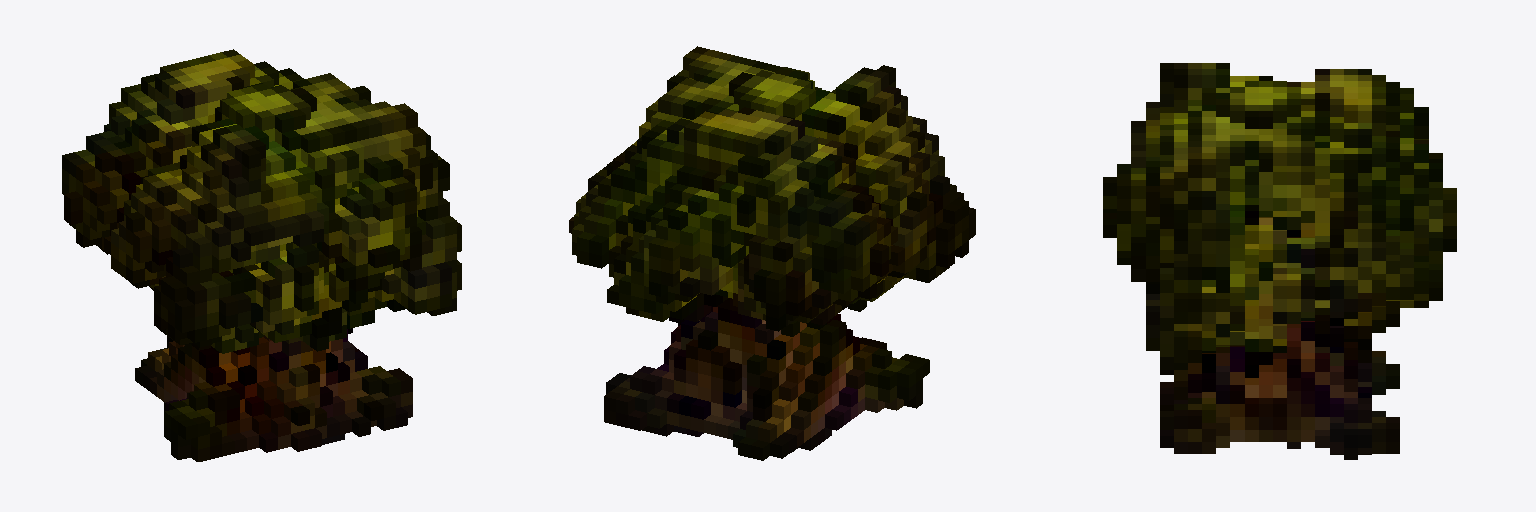
The model's file is iter_50.obj.
The picture shows the model from 3 angles: view 1: azimuth 30°, elevation 25°; view 2: azimuth 150°, elevation 25°; view 3: azimuth 270°, elevation 25°; orthographic projection.
Visible parts, largest first — view 1: iter_50; view 2: iter_50; view 3: iter_50.
Part boxes in pixels (x1,y1,x2,y2): iter_50: (62, 49, 461, 461); iter_50: (569, 46, 975, 460); iter_50: (1103, 63, 1456, 459).
Bounding box in the file's own units: 2.5 × 2.5 × 2.5.